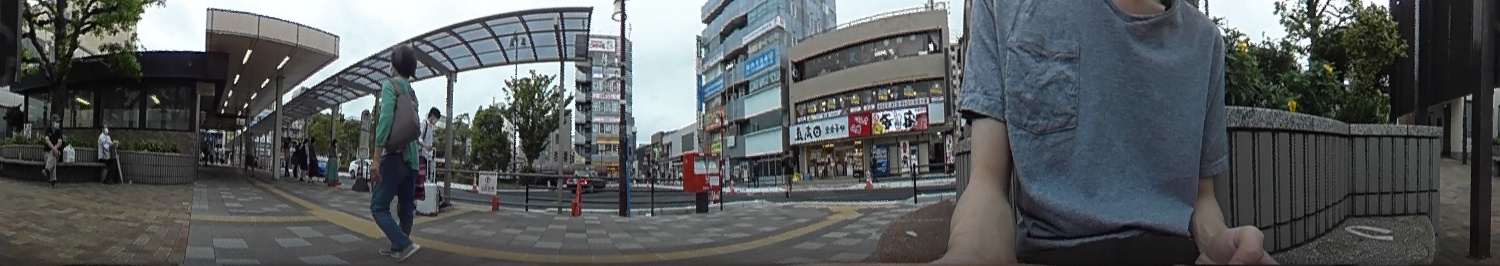difficult_person: (325, 135, 342, 188), (241, 129, 258, 174), (307, 137, 318, 177), (298, 135, 309, 174), (203, 137, 213, 165), (751, 162, 761, 185)
person: (368, 44, 423, 257), (416, 107, 447, 204), (93, 121, 125, 184), (40, 112, 63, 179), (780, 149, 797, 193)
